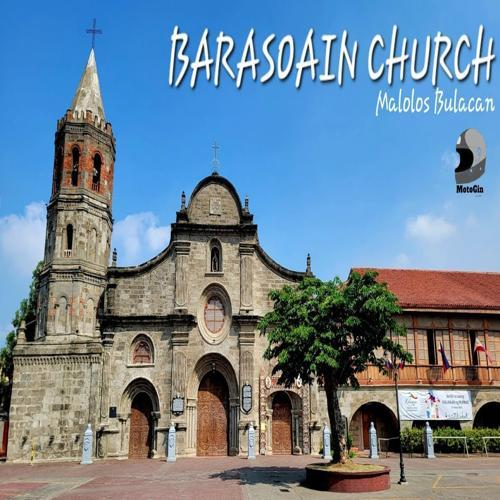Barasoain Church: (7, 18, 337, 464)
